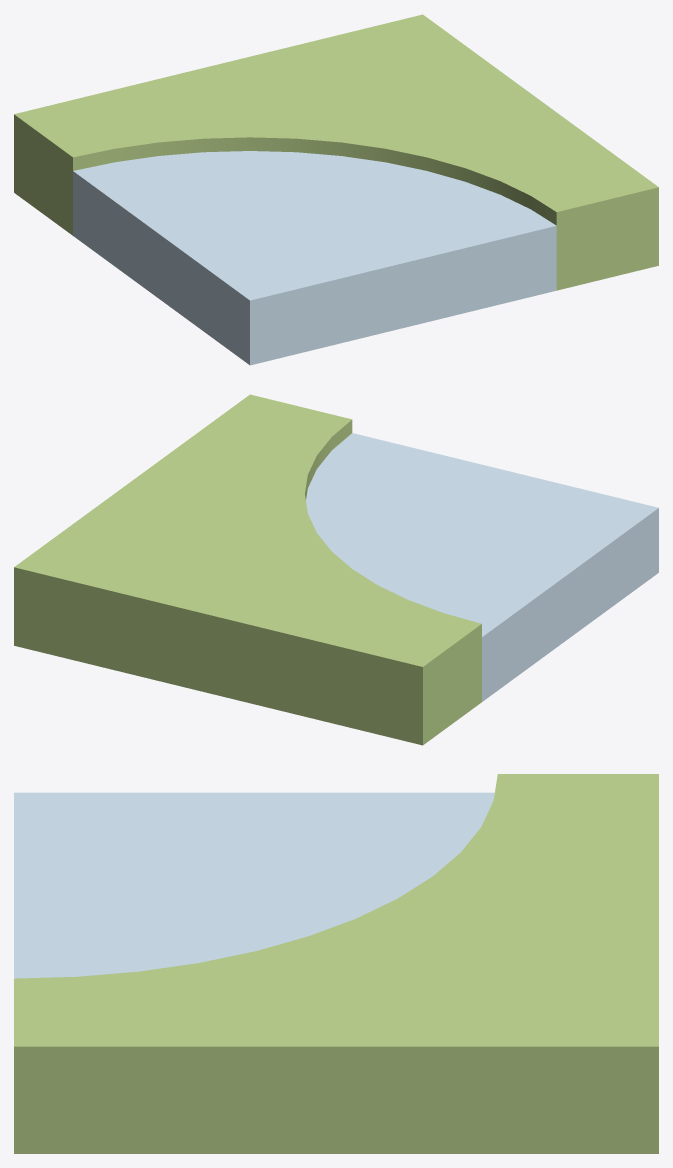
Rendered from tile115.glb.
The picture shows the model from 3 angles, top to bottom: view 1: azimuth 30°, elevation 25°; view 2: azimuth 150°, elevation 25°; view 3: azimuth 270°, elevation 25°; orthographic projection. The views are drawn at different scales.
Visible parts, largest first — view 1: tile115; view 2: tile115; view 3: tile115.
Boxes of the visible parts, box(x1,y1,x2,y2) form: tile115: box(14, 14, 658, 365); tile115: box(14, 394, 658, 745); tile115: box(14, 774, 658, 1153).
Bounding box in the file's own units: 1 × 0.1833 × 1.
